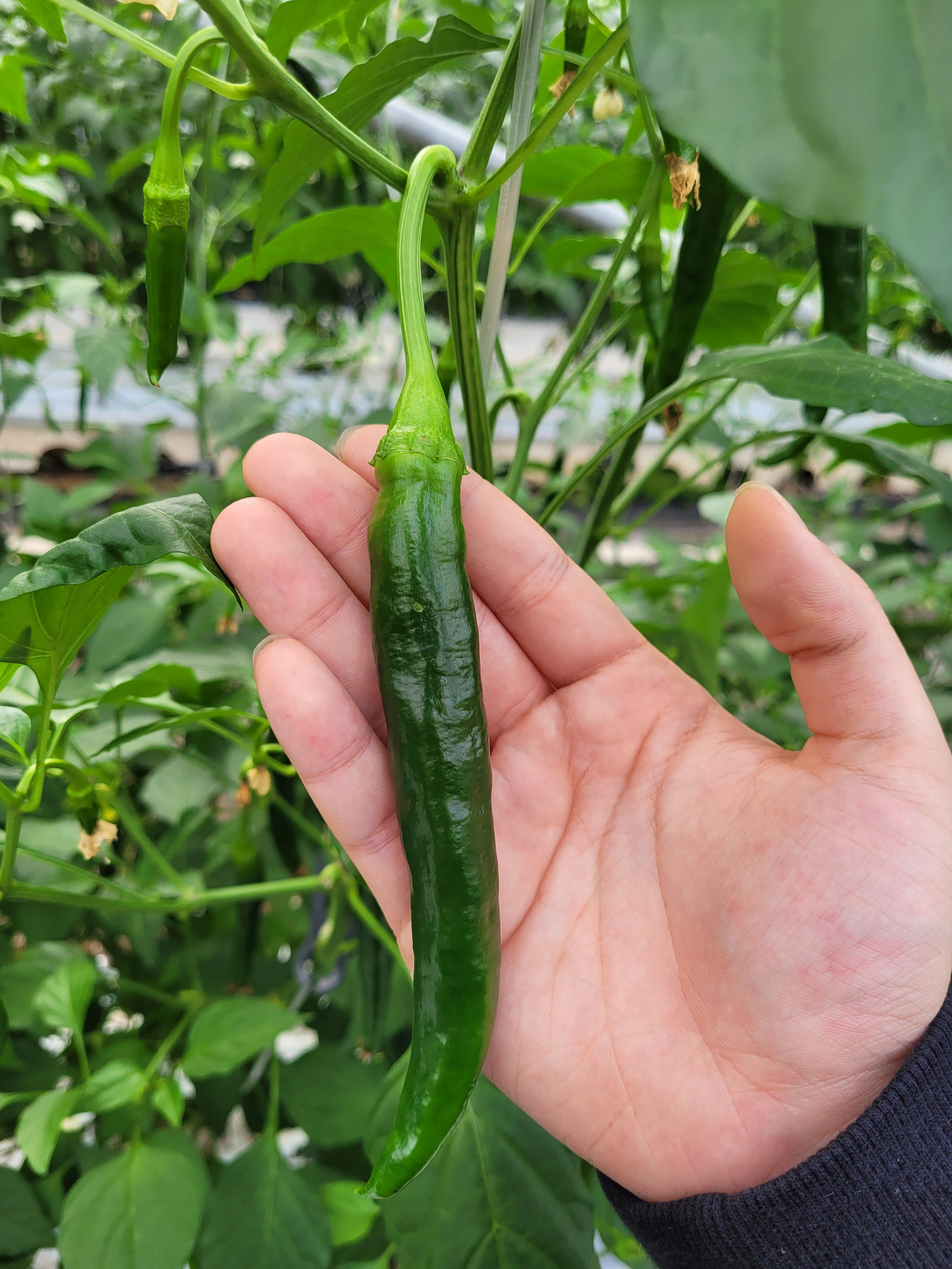Buah Cabai Sehat: (359, 415, 504, 1202), (135, 152, 198, 381)
